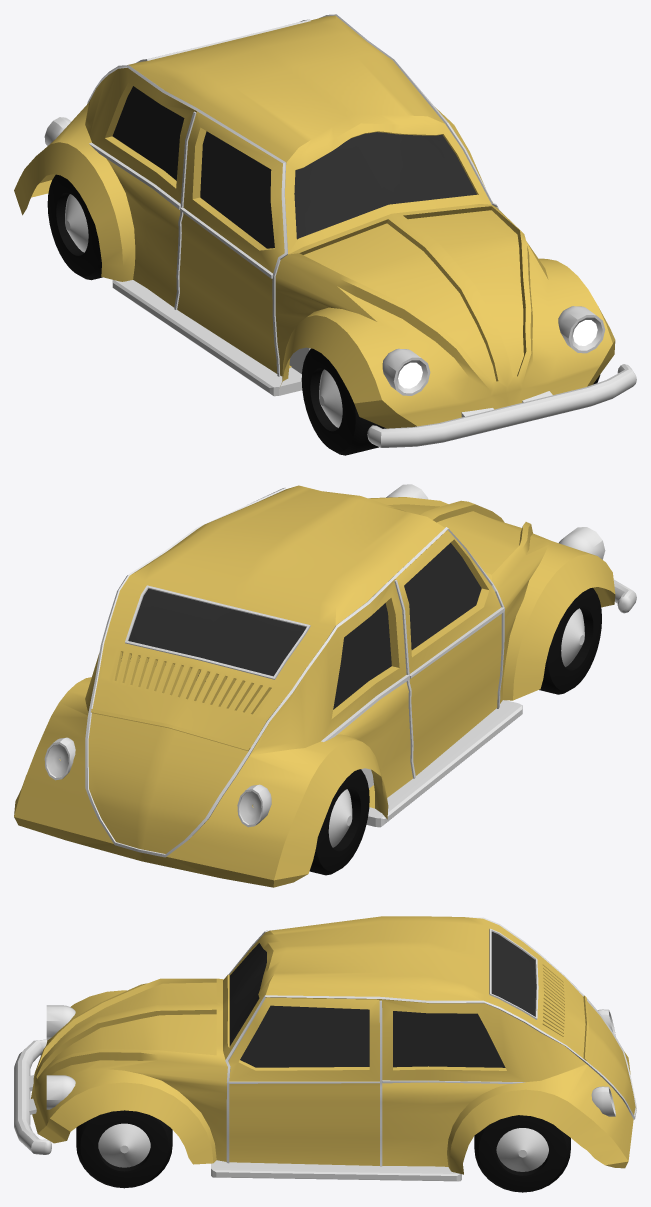
File: beet.fbx
3 renders of one model, top to bottom at view 1: azimuth 30°, elevation 25°; view 2: azimuth 150°, elevation 25°; view 3: azimuth 270°, elevation 25°, orthographic. The views are drawn at different scales.
Parts seen in each view (by area): view 1: Cylinder, Cylinder.001, Cube, Cylinder.003; view 2: Cylinder, Cylinder.001, Cylinder.003, Cube; view 3: Cylinder, Cylinder.002, Cylinder.004, Cube.
Boxes of the visible parts, x1,y1,x2,y2 form: Cylinder: (14,14,636,447); Cylinder.001: (301,348,386,455); Cube: (112,280,310,396); Cylinder.003: (47,174,102,280); Cylinder: (14,484,636,887); Cylinder.001: (539,587,601,694); Cylinder.003: (309,769,369,875); Cube: (361,700,522,827); Cylinder: (14,916,636,1174); Cylinder.002: (76,1110,172,1188); Cylinder.004: (474,1115,570,1192); Cube: (211,1160,461,1181).
Bounding box in the file's own units: 166 × 134 × 382.
